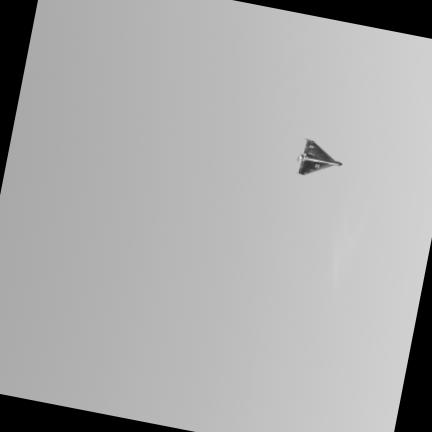Shahed: (299, 138, 341, 173)
